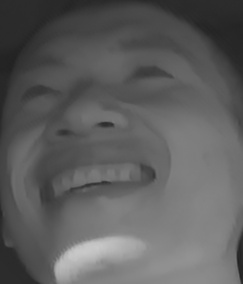eye: (121, 60, 175, 87), (17, 78, 59, 105)
mouth: (32, 146, 166, 212)
